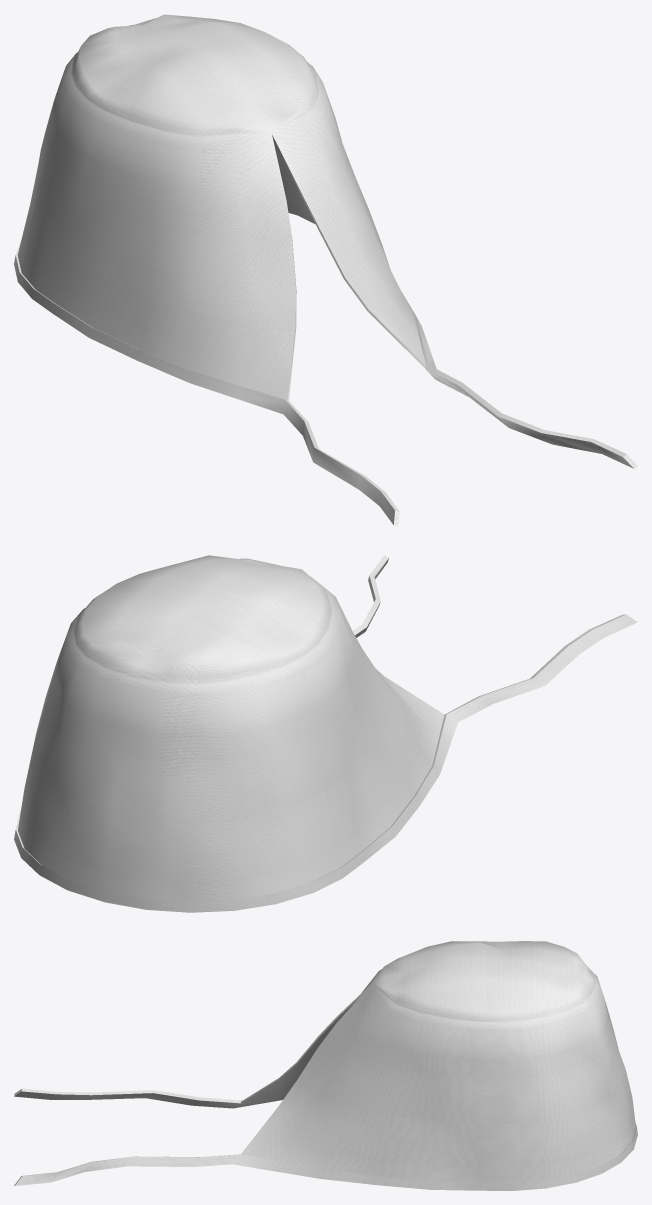
The model's file is maozi.FBX.
The picture shows the model from 3 angles, top to bottom: view 1: azimuth 30°, elevation 25°; view 2: azimuth 150°, elevation 25°; view 3: azimuth 270°, elevation 25°; orthographic projection. The views are drawn at different scales.
Parts seen in each view (by area): view 1: Cylinder003; view 2: Cylinder003; view 3: Cylinder003.
Part boxes in pixels (x1,y1,x2,y2): Cylinder003: (14, 14, 637, 526); Cylinder003: (14, 555, 637, 912); Cylinder003: (14, 941, 637, 1190).
Bounding box in the file's own units: 30.55 × 22.64 × 71.91.
Materials: 1 (1 with a texture image).
